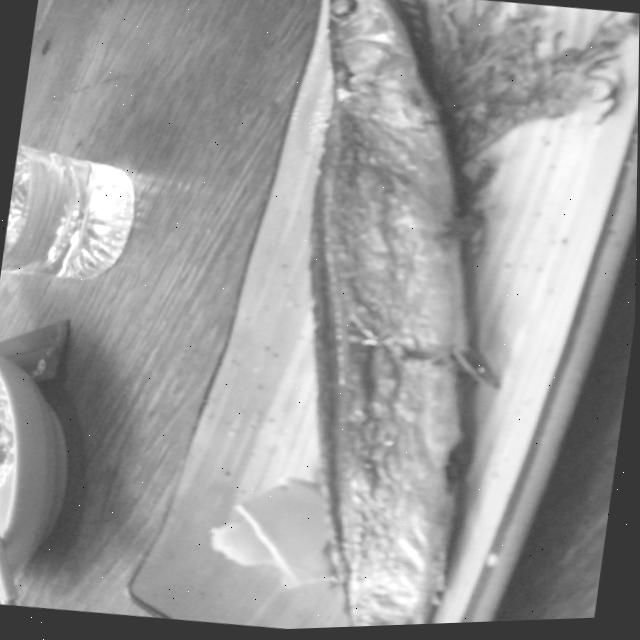熟制海鲜: (218, 0, 527, 633)
